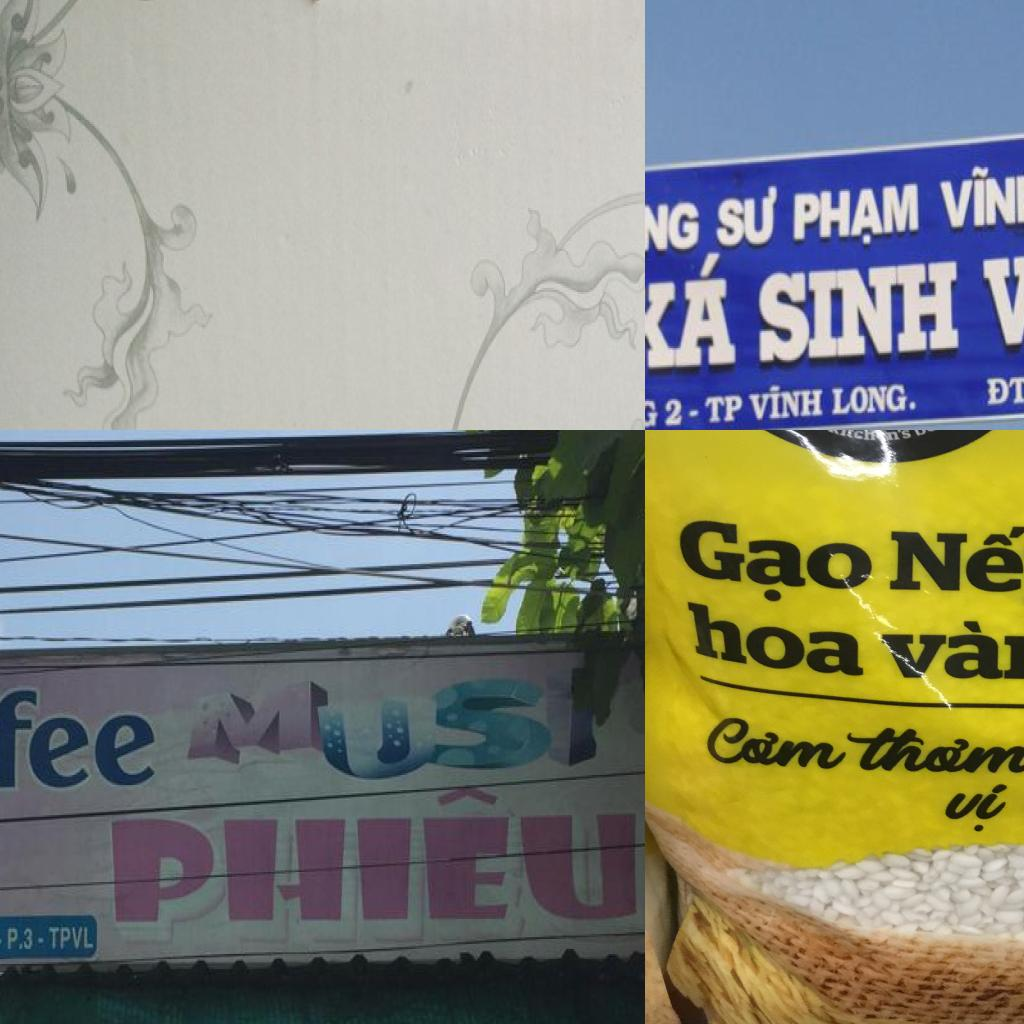text: (108, 774, 645, 942), (186, 676, 547, 768), (758, 256, 962, 368), (673, 514, 876, 608), (0, 684, 159, 800), (679, 599, 864, 685), (883, 518, 1024, 618), (871, 617, 1024, 701), (645, 250, 741, 375), (846, 719, 1024, 774), (792, 179, 922, 254), (700, 712, 842, 778), (933, 158, 1024, 231), (973, 220, 1024, 349), (645, 175, 702, 264), (942, 777, 1019, 840), (715, 182, 781, 252), (831, 378, 918, 420), (745, 382, 826, 425), (984, 371, 1024, 409), (704, 392, 745, 426), (3, 924, 35, 957), (663, 396, 685, 430), (825, 430, 877, 442), (909, 430, 954, 437), (884, 430, 915, 438)
